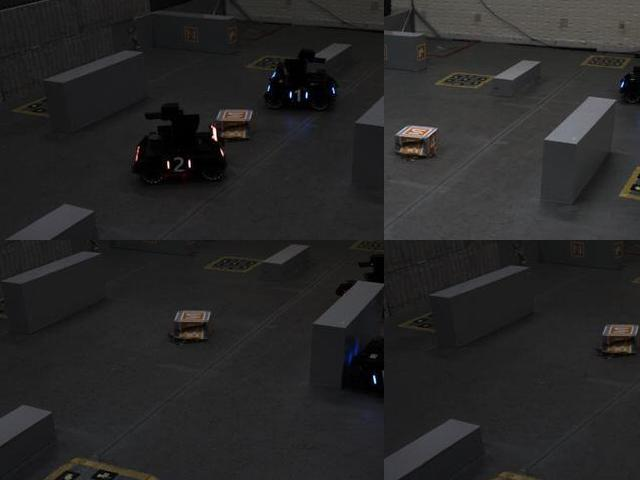armor: (162, 151, 194, 178), (285, 86, 312, 106), (368, 366, 383, 393), (378, 290, 383, 313)
